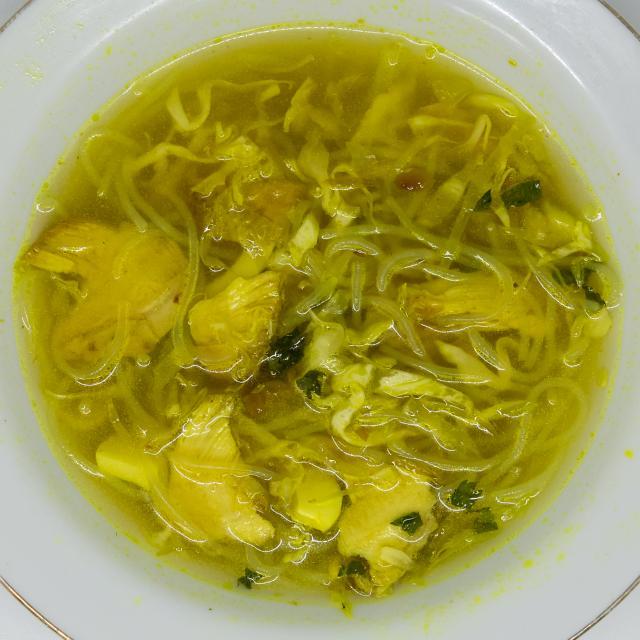Soto-Lamongan: (15, 15, 625, 614)
